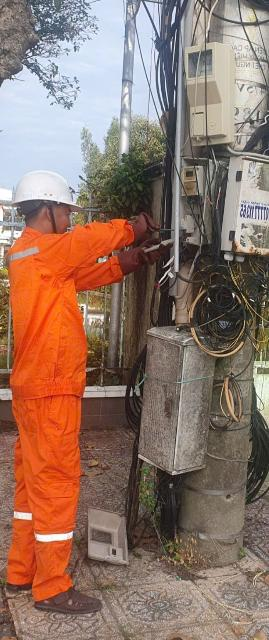gloves: (105, 228, 192, 276), (106, 202, 165, 240)
helmet: (6, 147, 83, 238)
shoes: (33, 575, 127, 628)
